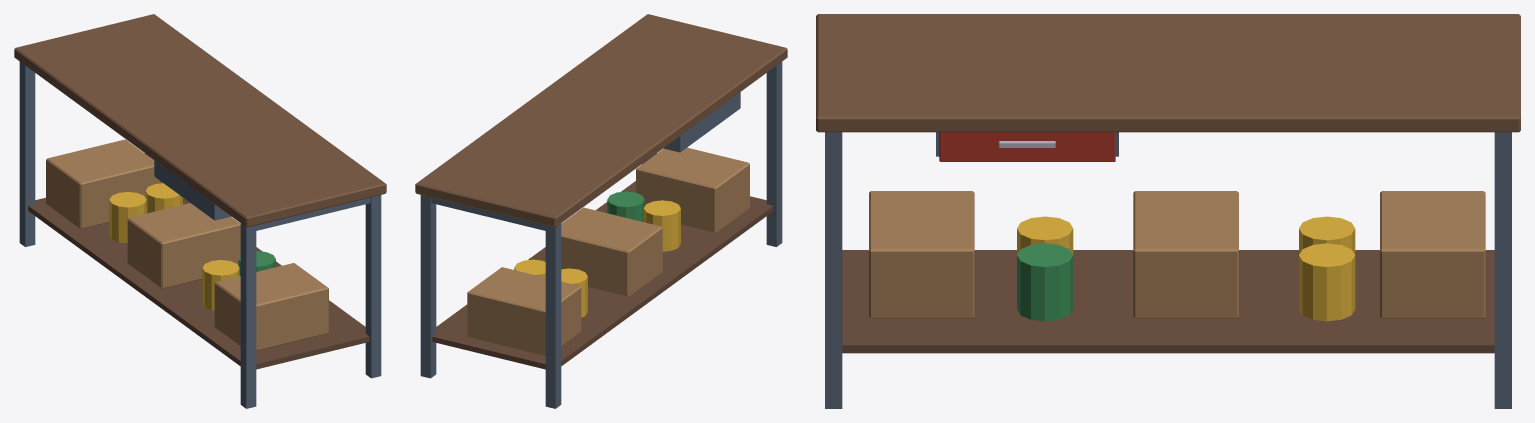
File: garage_bench.glb
The picture shows the model from 3 angles, left to right: view 1: azimuth 30°, elevation 25°; view 2: azimuth 150°, elevation 25°; view 3: azimuth 270°, elevation 25°; orthographic projection. The views are drawn at different scales.
Parts seen in each view (by area): view 1: garage_bench; view 2: garage_bench; view 3: garage_bench.
Boxes of the visible parts, bbox=[...] form: garage_bench: bbox=[14, 14, 386, 408]; garage_bench: bbox=[415, 14, 787, 408]; garage_bench: bbox=[816, 14, 1520, 408].
Bounding box in the file's own units: 0.7 × 0.92 × 2.
